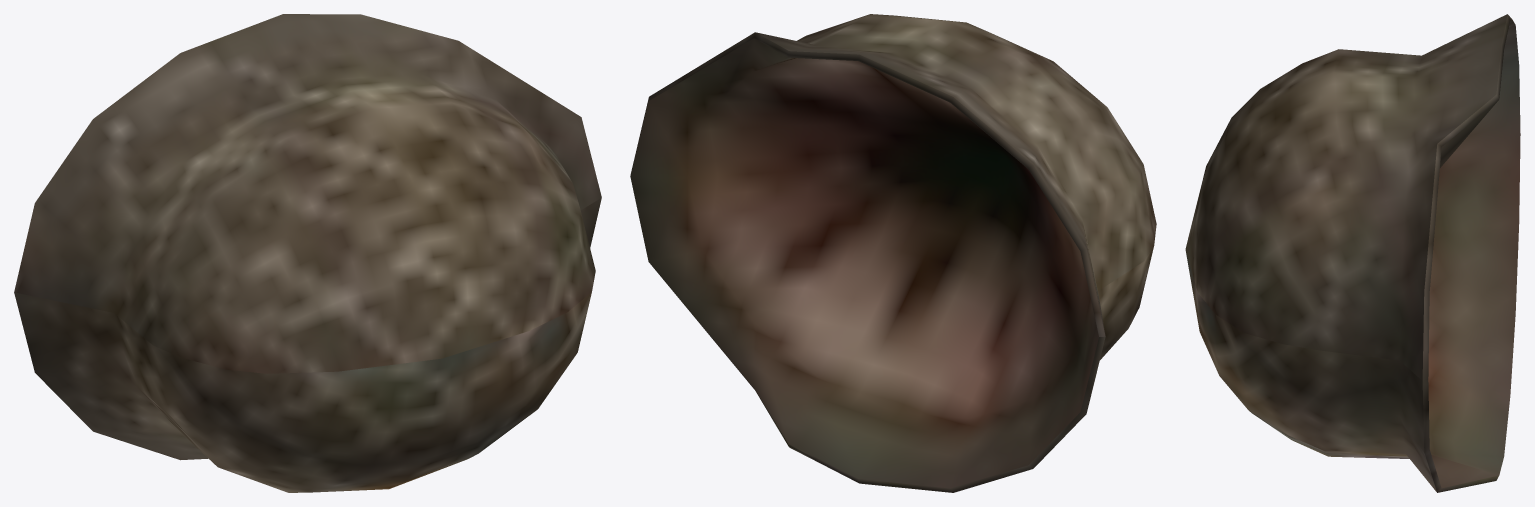
The model's file is helmet_german_camo_emilio.glb.
The picture shows the model from 3 angles, left to right: view 1: azimuth 30°, elevation 25°; view 2: azimuth 150°, elevation 25°; view 3: azimuth 270°, elevation 25°; orthographic projection. The views are drawn at different scales.
Size of the model in its own units: 13.74 by 10.77 by 7.82.
1 material, 1 textured.
